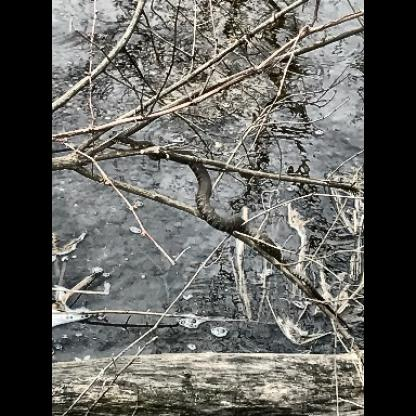Snake: (118, 126, 296, 260)
